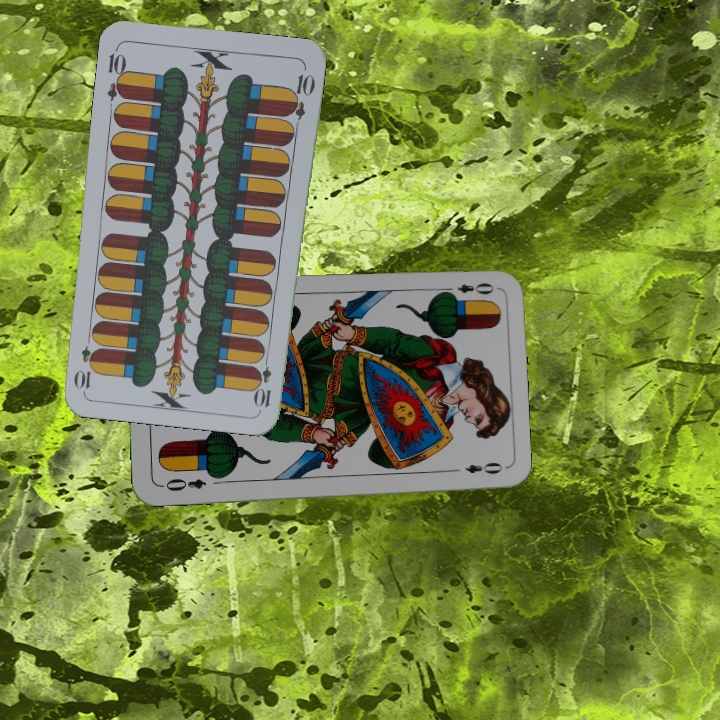E10: (103, 43, 130, 102), (254, 351, 275, 410)
EO: (439, 279, 497, 299), (157, 474, 209, 494)
